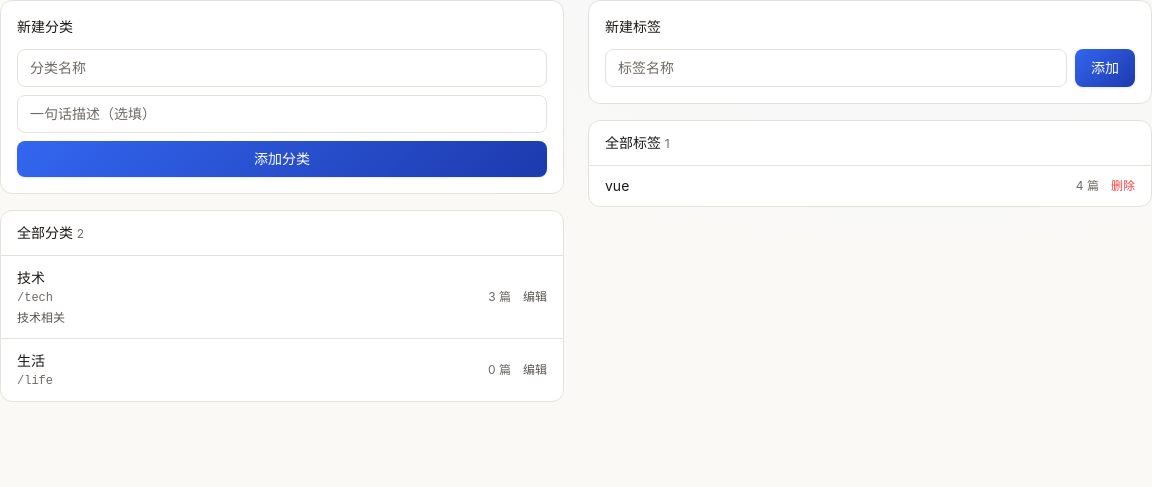
Test: TaxonomyView · 重命名分类 › 点「编辑」只把那一行换成输入框并回填名称与描述
Click the button "编辑" next to "3 篇". click: (535, 297)
box: 523,289 -> 547,305
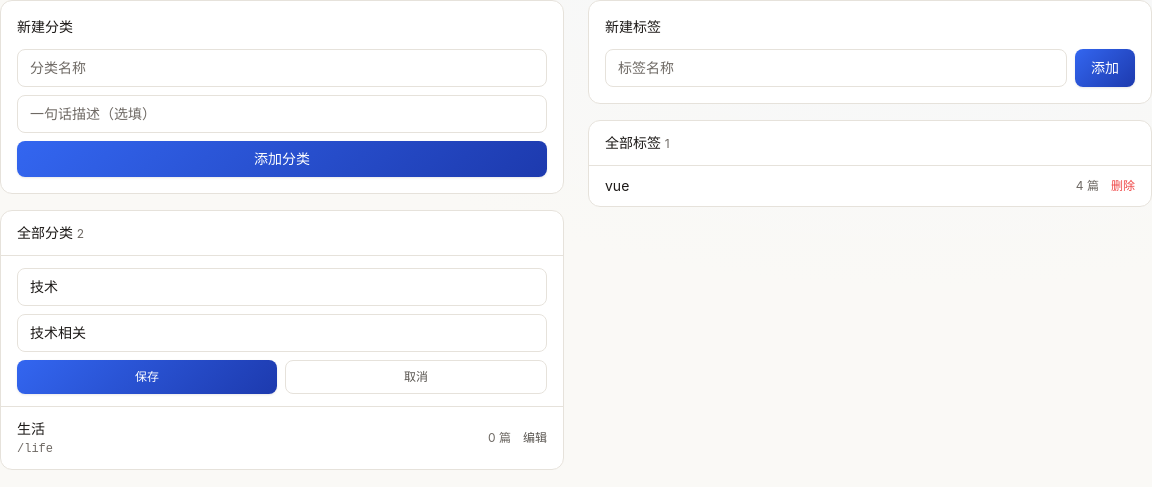
Result: the field named "分类名称" holds "技术" at 17,268 -> 547,306
Result: the field named "分类描述" holds "技术相关" at 17,314 -> 547,352
